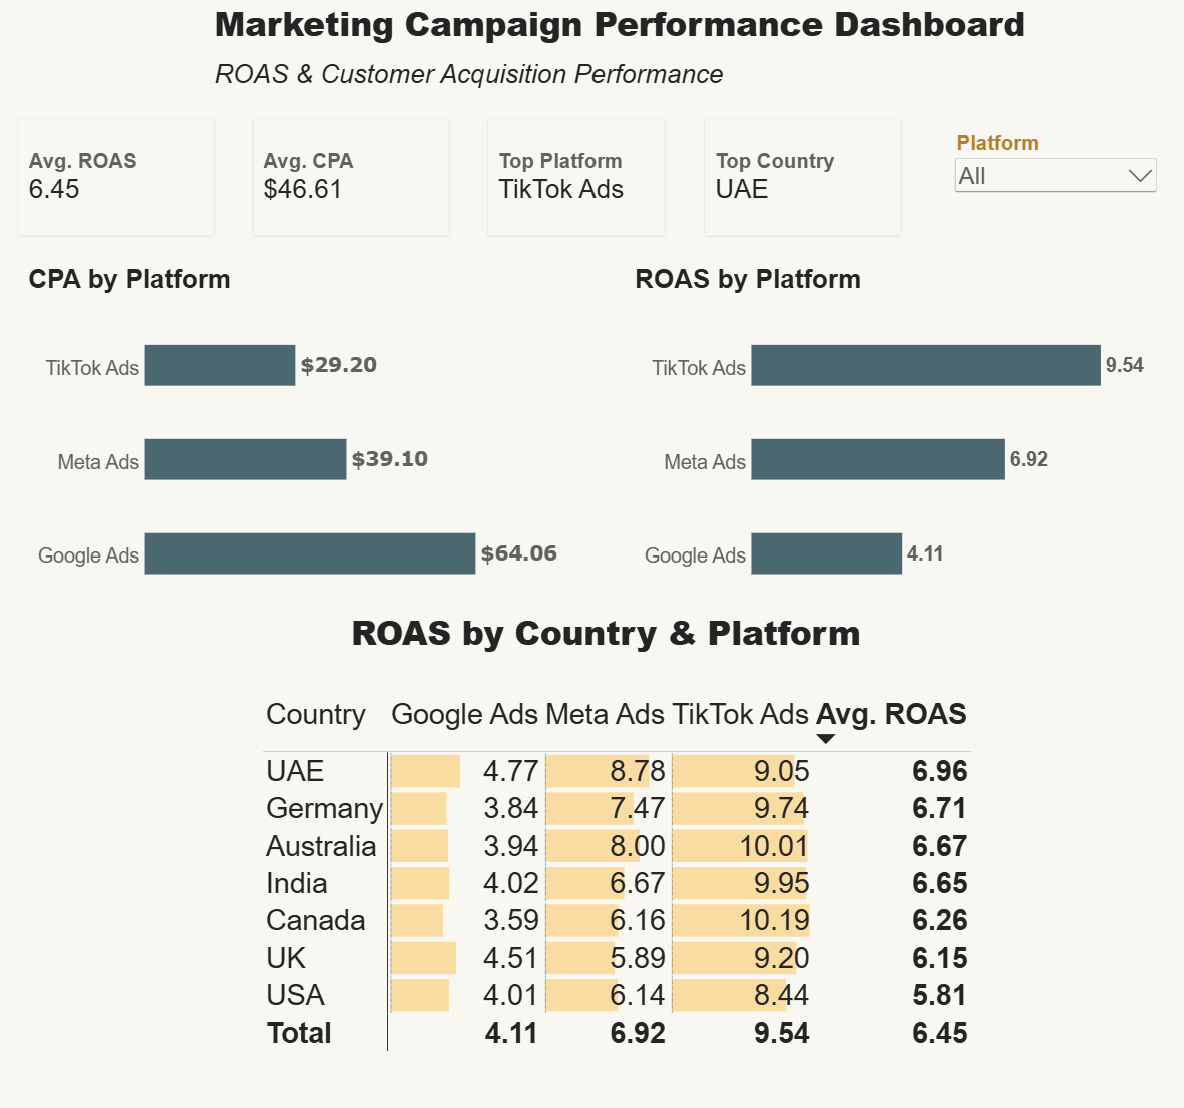

The page's visual inventory and layout, read from the dashboard file:
{"tool":"powerbi","page":{"name":"Page 1","canvas":[1950,2500],"ordinal":0},"visuals":[{"type":"clusteredBarChart","title":"ROAS by Platform","fields":{"Category":["global_ads_performance_dataset.platform"],"Y":["Avg(global_ads_performance_dataset.ROAS)"]},"box":[1024,416,864,608],"z":0},{"type":"clusteredBarChart","title":"CPA by Platform","fields":{"Category":["global_ads_performance_dataset.platform"],"Y":["Avg(global_ads_performance_dataset.CPA)"]},"box":[32,416,896,608],"z":1000},{"type":"slicer","fields":{"Values":["global_ads_performance_dataset.platform"]},"box":[1536,192,360,192],"z":2000},{"type":"textbox","box":[100,100,300,300],"z":4000},{"type":"textbox","box":[100,100,300,300],"z":5000},{"type":"textbox","box":[100,100,300,300],"z":6000},{"type":"textbox","box":[1632,1120,256,640],"z":7000},{"type":"textbox","box":[352,0,1568,96],"z":14000},{"type":"pivotTable","fields":{"Columns":["global_ads_performance_dataset.platform"],"Rows":["global_ads_performance_dataset.country"],"Values":["Avg(global_ads_performance_dataset.ROAS)"]},"box":[416,1120,1216,640],"z":15000},{"type":"textbox","box":[576,992,1056,96],"z":16000},{"type":"cardVisual","fields":{"Data":["global_ads_performance_dataset.Average ROAS"]},"box":[32,192,320,192],"z":17000},{"type":"cardVisual","fields":{"Data":["global_ads_performance_dataset.Average CPA"]},"box":[416,192,320,192],"z":18000},{"type":"cardVisual","fields":{"Data":["global_ads_performance_dataset.Best Platform"]},"box":[800,192,288,192],"z":19000},{"type":"cardVisual","fields":{"Data":["global_ads_performance_dataset.Best Country"]},"box":[1152,192,320,192],"z":20000},{"type":"textbox","box":[352,96,1344,64],"z":20001}]}

Visuals, with their boxes on the page's 1950x2500 design canvas (x1, y1, x2, y2). These are canvas units, not pixel positions in the 1184x1108 screenshot, which may show the page scaled, cropped or inside an application window:
"ROAS by Platform" clusteredBarChart: rect(1024, 416, 1888, 1024)
"CPA by Platform" clusteredBarChart: rect(32, 416, 928, 1024)
slicer - global_ads_performance_dataset.platform: rect(1536, 192, 1896, 384)
textbox: rect(100, 100, 400, 400)
textbox: rect(100, 100, 400, 400)
textbox: rect(100, 100, 400, 400)
textbox: rect(1632, 1120, 1888, 1760)
textbox: rect(352, 0, 1920, 96)
pivotTable - global_ads_performance_dataset.platform x global_ads_performance_dataset.country: rect(416, 1120, 1632, 1760)
textbox: rect(576, 992, 1632, 1088)
cardVisual - global_ads_performance_dataset.Average ROAS: rect(32, 192, 352, 384)
cardVisual - global_ads_performance_dataset.Average CPA: rect(416, 192, 736, 384)
cardVisual - global_ads_performance_dataset.Best Platform: rect(800, 192, 1088, 384)
cardVisual - global_ads_performance_dataset.Best Country: rect(1152, 192, 1472, 384)
textbox: rect(352, 96, 1696, 160)
